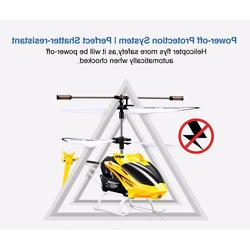drone: (55, 94, 190, 215)
